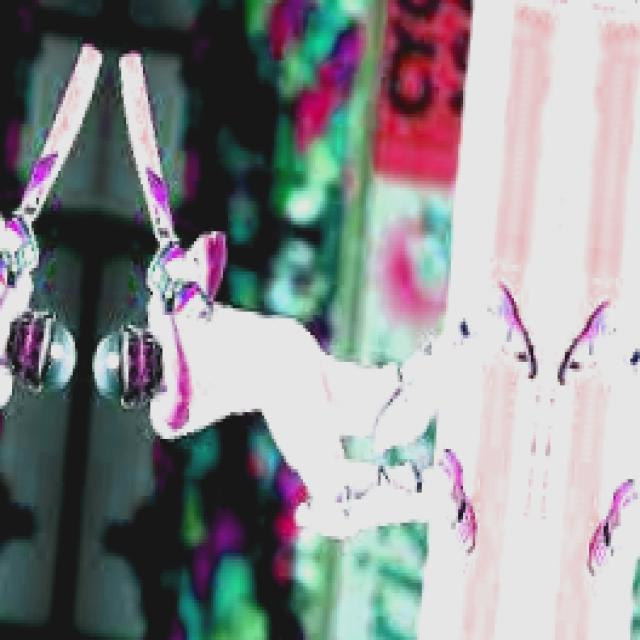toe: (114, 41, 152, 75)
